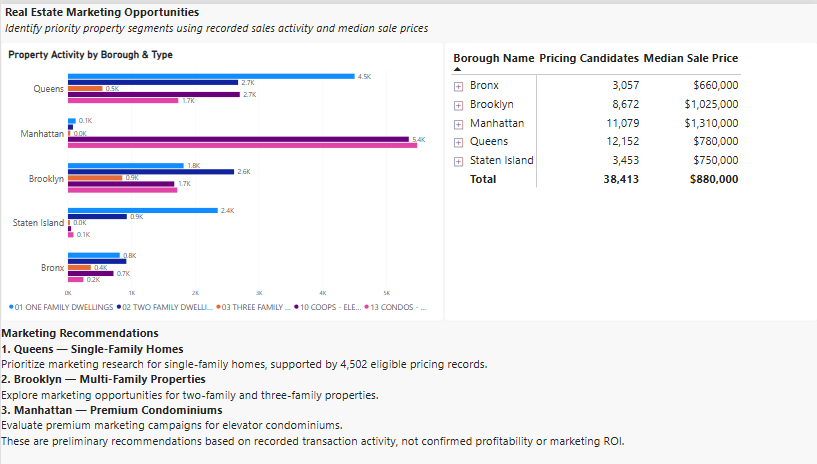

What the dashboard file says about the page in this screenshot:
{"tool":"powerbi","page":{"name":"Marketing Opportunities","canvas":[1920,1080],"ordinal":2},"visuals":[{"type":"textbox","box":[9.4,0,1877.7,119.9],"z":0},{"type":"clusteredBarChart","title":"Property Activity by Borough & Type","fields":{"Category":["real_estate_analytical.Borough Name"],"Series":["real_estate_analytical.building_class_category"],"Y":["real_estate_analytical.Pricing Candidates"]},"box":[0,61.1,1041.1,655.7],"z":1000},{"type":"pivotTable","fields":{"Rows":["real_estate_analytical.Borough Name","real_estate_analytical.building_class_category"],"Values":["real_estate_analytical.Pricing Candidates","real_estate_analytical.Median Sale Price"]},"box":[1041.1,89.3,878.9,655.7],"z":2000},{"type":"textbox","box":[0,754.4,1920,326.7],"z":2001}]}

Visuals, with their boxes in screenshot pixels (x1, y1, x2, y2), scaled from the page's 1920x1080 canvas onto the 817x464 screenshot:
textbox: region(4, 0, 803, 52)
"Property Activity by Borough & Type" clusteredBarChart: region(0, 26, 443, 308)
pivotTable - real_estate_analytical.Borough Name x real_estate_analytical.building_class_category: region(443, 38, 816, 320)
textbox: region(0, 324, 816, 463)
